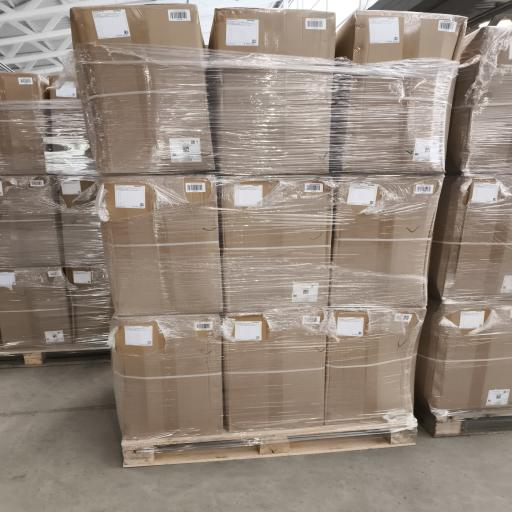pallet: (122, 424, 417, 467), (415, 403, 511, 437), (0, 347, 110, 368)
